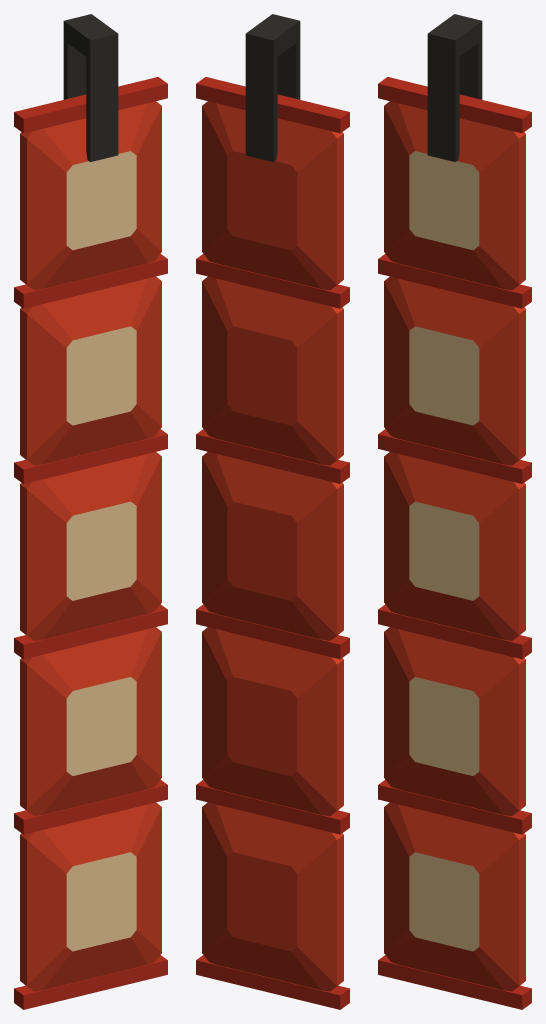
The model's file is SM_Cook_CoffeeSachetStrip_Red_01.fbx.
3 views of the same model, side by side, from view 1: azimuth 30°, elevation 25°; view 2: azimuth 150°, elevation 25°; view 3: azimuth 330°, elevation 25° (orthographic).
Parts seen in each view (by area): view 1: SM_Cook_CoffeeSachetStrip_Red_01; view 2: SM_Cook_CoffeeSachetStrip_Red_01; view 3: SM_Cook_CoffeeSachetStrip_Red_01.
Boxes of the visible parts, x1,y1,x2,y2 form: SM_Cook_CoffeeSachetStrip_Red_01: [14, 14, 167, 1009]; SM_Cook_CoffeeSachetStrip_Red_01: [196, 14, 349, 1009]; SM_Cook_CoffeeSachetStrip_Red_01: [378, 14, 531, 1009].
Bounding box in the file's own units: 0.062 × 0.395 × 0.02.
Materials: 1 (1 with a texture image).
